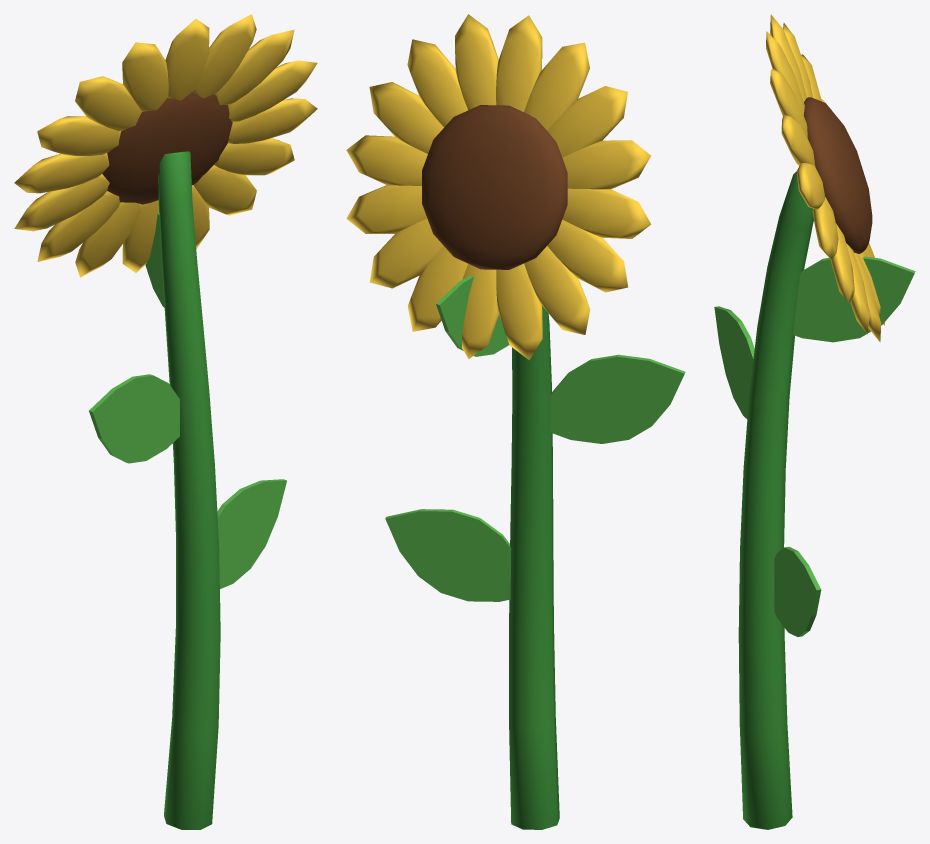
File: Meadow_Sunflower.glb
3 renders of one model, left to right at view 1: azimuth 30°, elevation 25°; view 2: azimuth 150°, elevation 25°; view 3: azimuth 270°, elevation 25°, orthographic.
Parts seen in each view (by area): view 1: Petals, Stem, Leaves, Seeds; view 2: Petals, Stem, Leaves, Seeds; view 3: Stem, Leaves, Petals, Seeds.
Part boxes in pixels (<box>): Petals: <box>14,14,317,277</box>; Stem: <box>158,151,220,829</box>; Leaves: <box>89,212,286,588</box>; Seeds: <box>102,92,232,204</box>; Petals: <box>346,14,651,360</box>; Stem: <box>509,306,559,829</box>; Leaves: <box>385,275,685,601</box>; Seeds: <box>422,105,567,269</box>; Stem: <box>738,172,813,829</box>; Leaves: <box>714,256,915,636</box>; Petals: <box>766,14,884,342</box>; Seeds: <box>799,97,872,253</box>.
Size of the model in its own units: 4.2 by 10.59 by 2.44.
